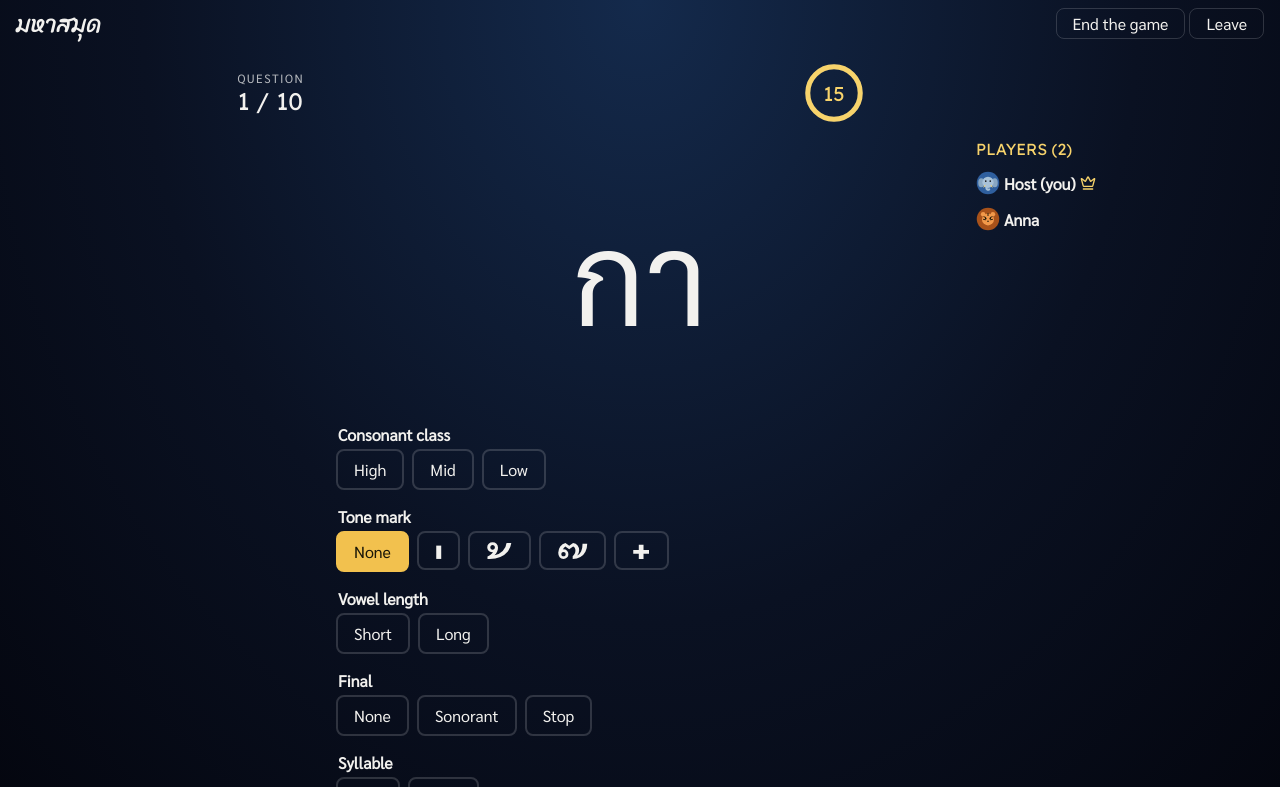
Test: RoomPage › in the bar › lets the host end the game for everyone, once confirmed
Click the button "End the game" at [1120, 24], box x1=1056 y1=8 x2=1185 y2=39
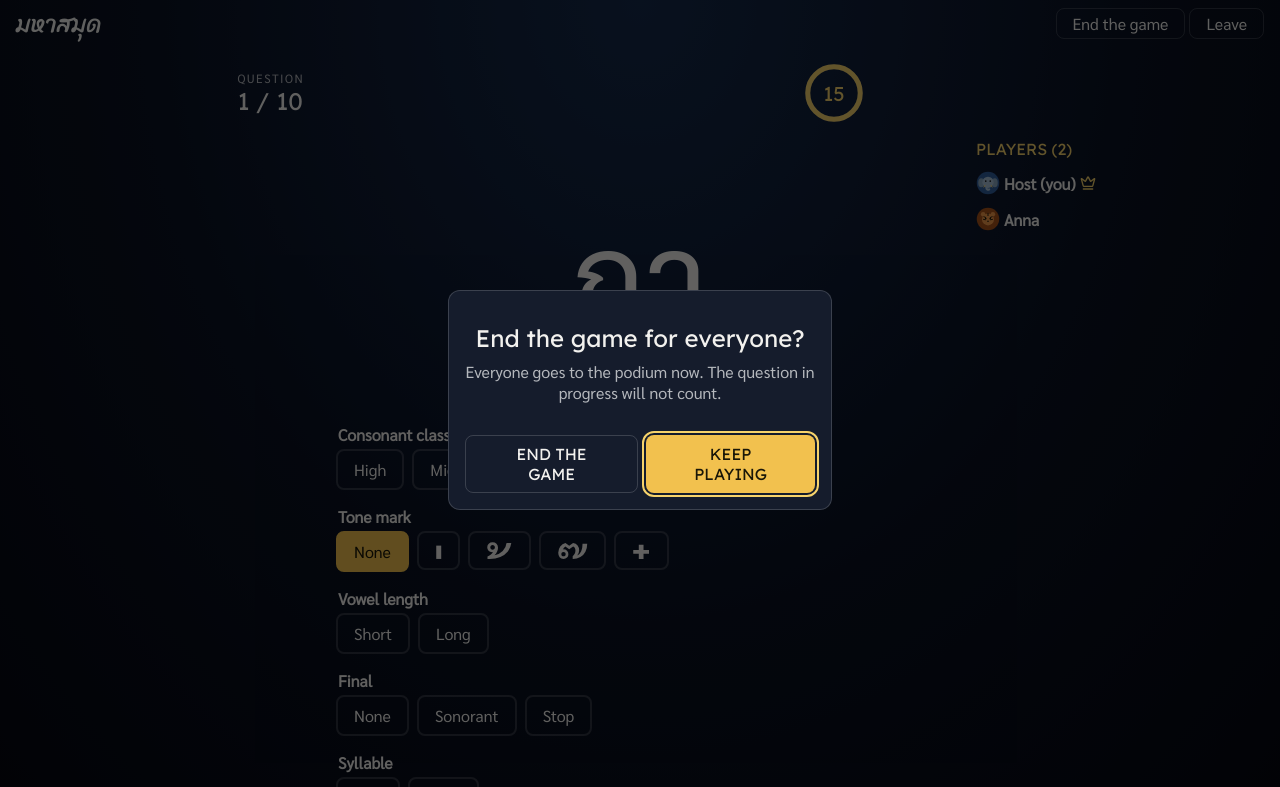
Result: the text "The question in progress will not count" is shown at x1=465 y1=361 x2=814 y2=403
Click the button "Keep playing" at [731, 464], box x1=646 y1=435 x2=815 y2=493
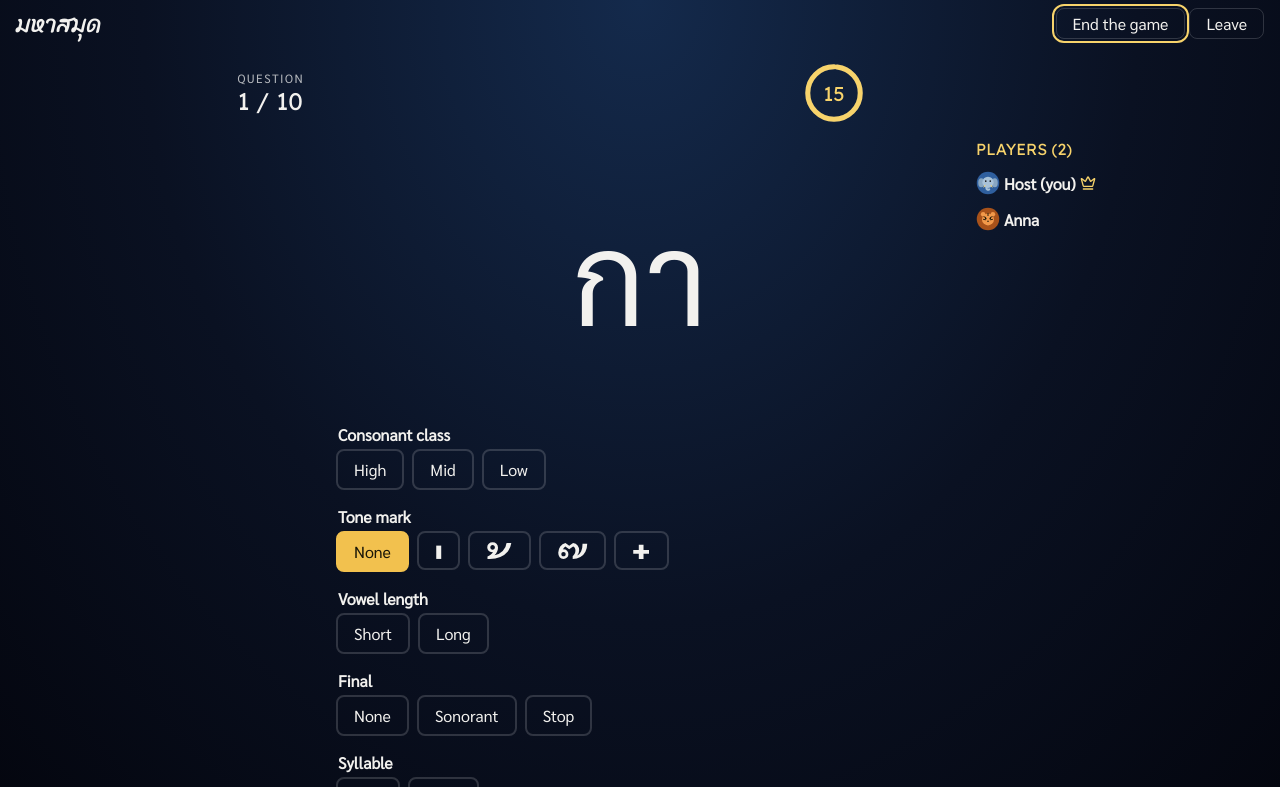
Click the button "End the game" at [1120, 24], box x1=1056 y1=8 x2=1185 y2=39
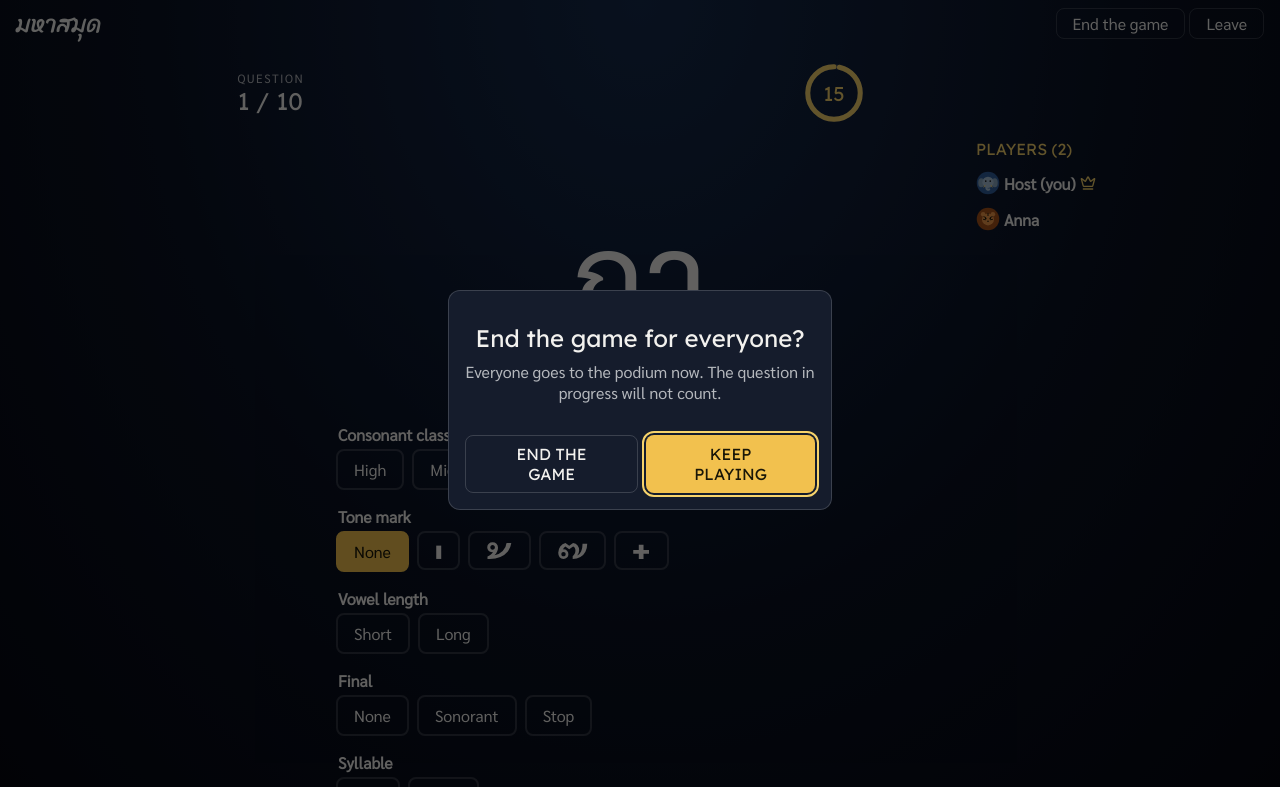
Click the button "End the game" at [552, 464], box x1=465 y1=435 x2=638 y2=493
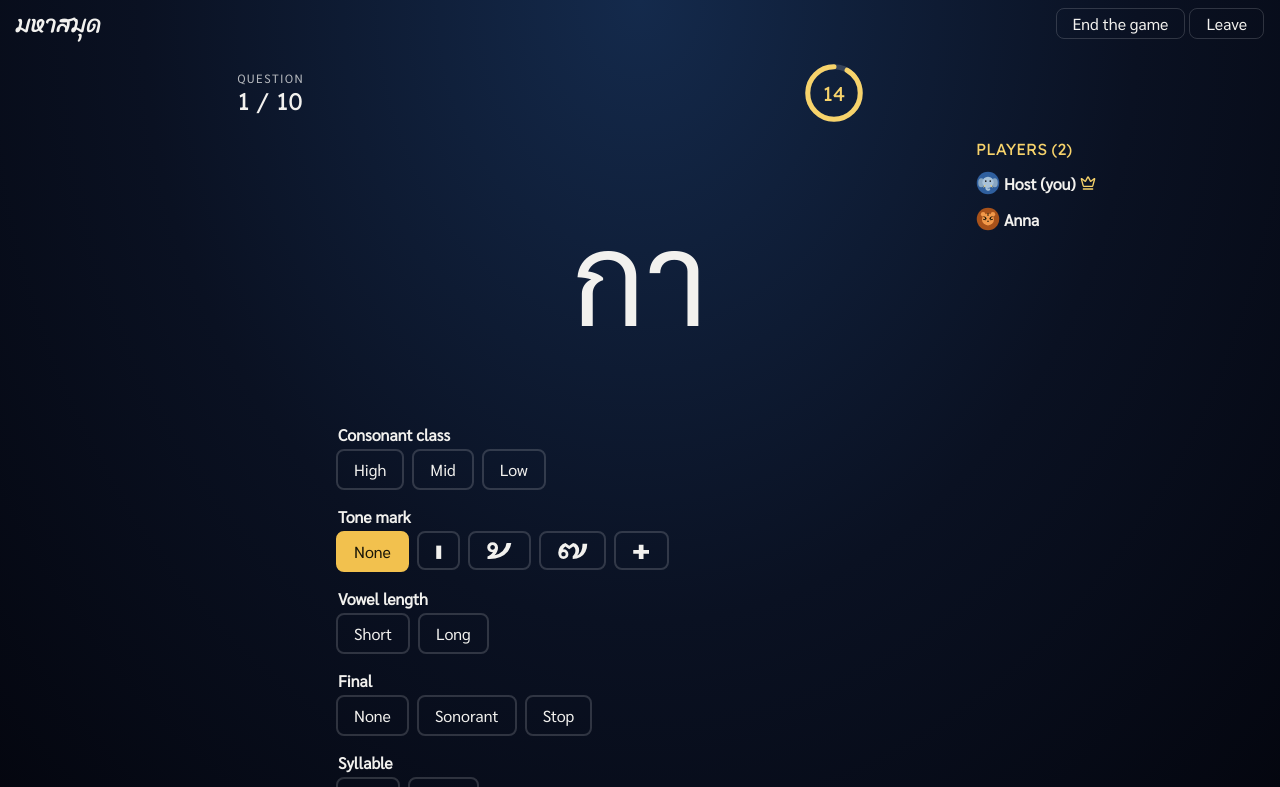
Result: the dialog is gone
